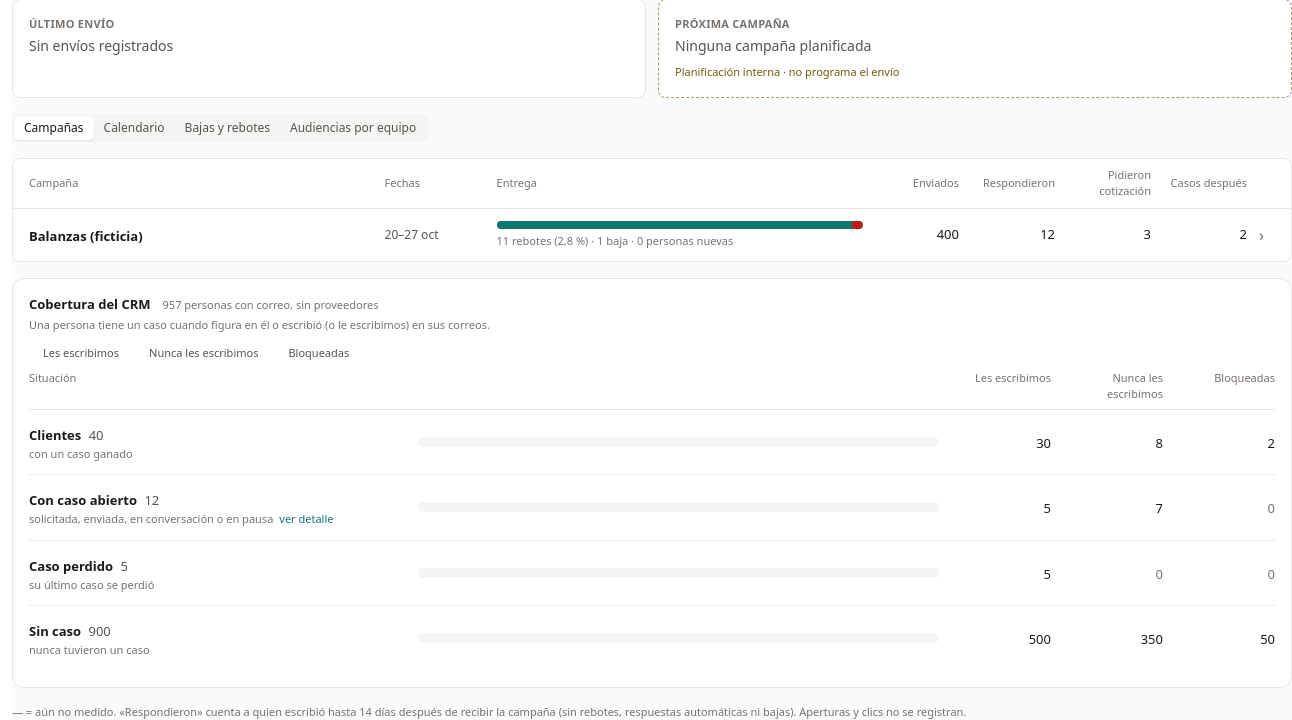
Test: Marketing analytics › coverage groups open cases and a cell opens its people
(page scrolled)
Expected: the element with test id "coverage-abierto" shows "Con caso abierto", top-left (29, 491), bottom-right (159, 510)
Expected: the element with test id "coverage-abierto" shows "12", top-left (29, 491), bottom-right (159, 510)
What coordinates should you click on to do the following:
click the button named "Nunca les escribimos: 7"
I would click on:
 (1159, 509)
Its box is top-left (1156, 499), bottom-right (1163, 519).
(page scrolled)
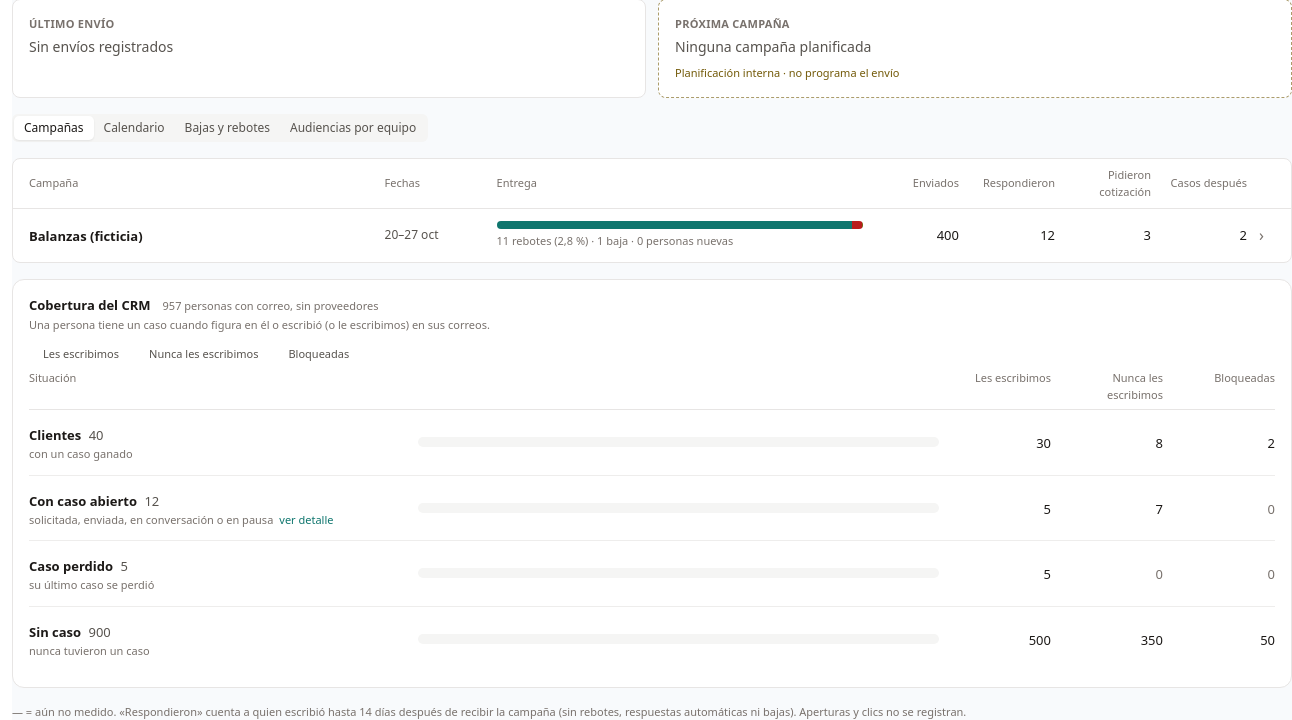
Expected: the text with test id "coverage-total" shows "957", top-left (163, 298), bottom-right (182, 312)
What coordinates should you click on to do the following:
click the button "ver detalle"
I would click on:
 (306, 520)
Its box is top-left (279, 512), bottom-right (334, 528).
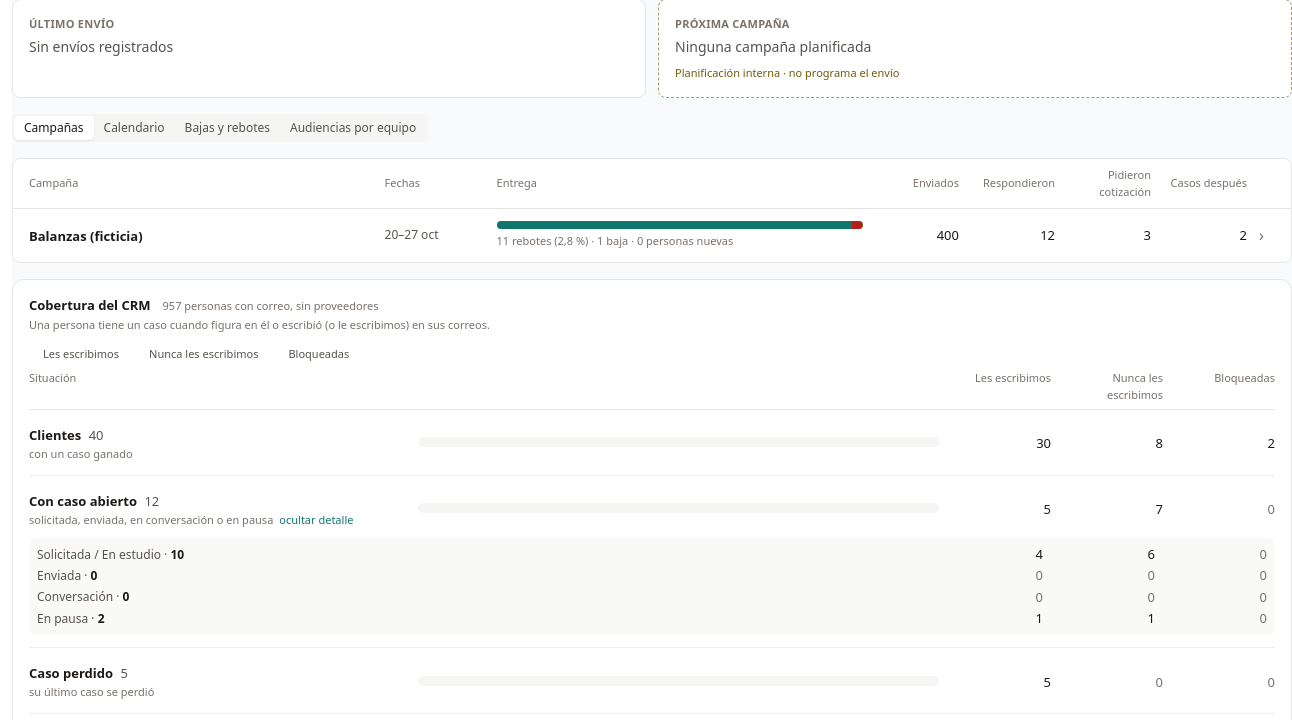
Expected: the element with test id "coverage-open-detail" shows "En pausa", top-left (37, 610), bottom-right (88, 627)
